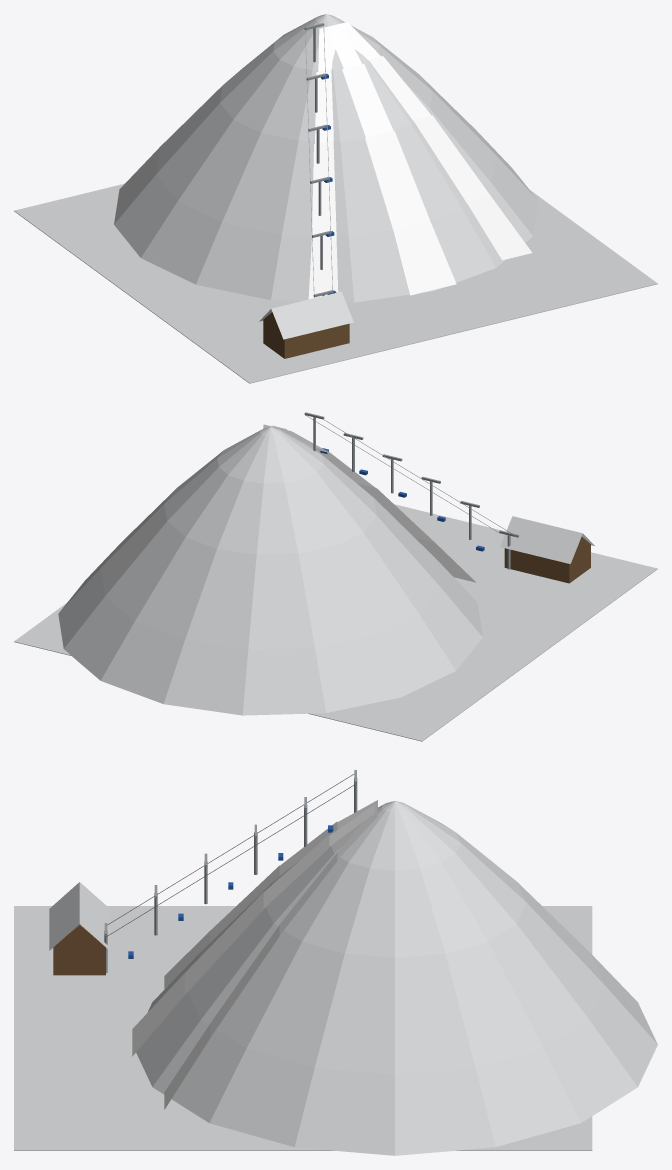
File: ski_resort.glb
3 renders of one model, top to bottom at view 1: azimuth 30°, elevation 25°; view 2: azimuth 150°, elevation 25°; view 3: azimuth 270°, elevation 25°, orthographic. The views are drawn at different scales.
Parts seen in each view (by area): view 1: Ski_static; view 2: Ski_static; view 3: Ski_static.
Boxes of the visible parts, bbox=[...] form: Ski_static: bbox=[14, 14, 657, 383]; Ski_static: bbox=[14, 412, 657, 741]; Ski_static: bbox=[14, 770, 657, 1155].
Size of the model in its own units: 90 by 42.5 by 98.
